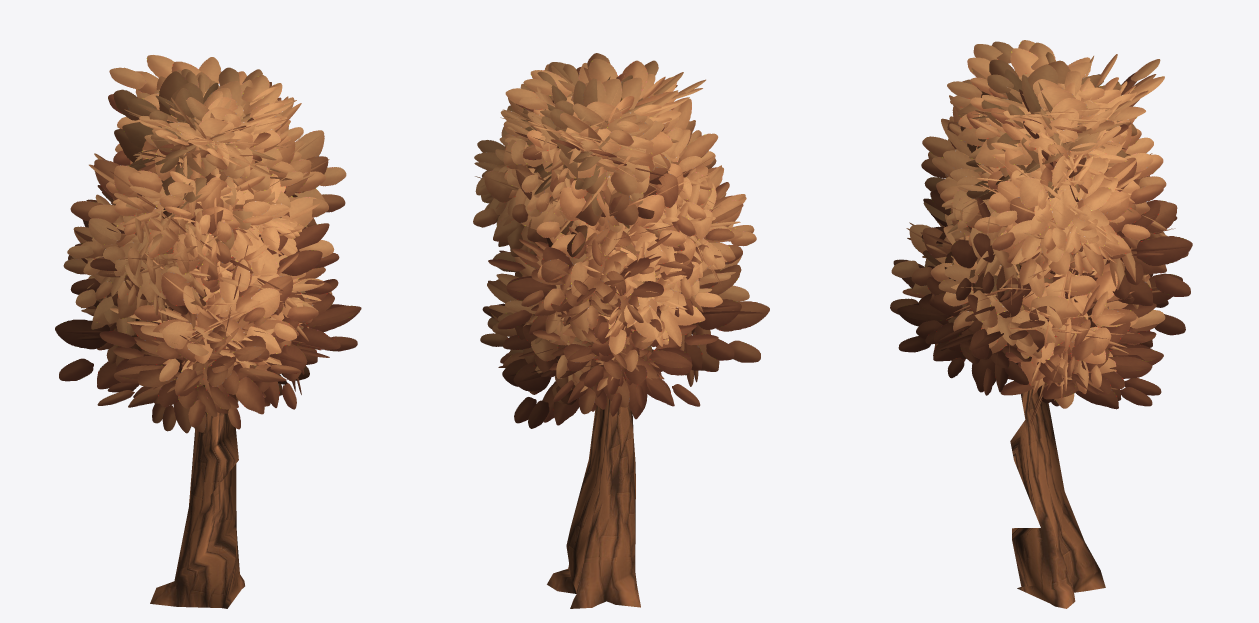
The model's file is tree_oak_autumn_far.glb.
3 views of the same model, side by side, from view 1: azimuth 30°, elevation 25°; view 2: azimuth 150°, elevation 25°; view 3: azimuth 270°, elevation 25° (orthographic).
Parts seen in each view (by area): view 1: Canopy, tree_oak_autumn_far; view 2: Canopy, tree_oak_autumn_far; view 3: Canopy, tree_oak_autumn_far.
Part boxes in pixels (x1,y1,x2,y2): Canopy: (55,55,361,433); tree_oak_autumn_far: (150,385,244,608); Canopy: (473,53,769,428); tree_oak_autumn_far: (547,395,640,608); Canopy: (890,40,1192,423); tree_oak_autumn_far: (1010,389,1105,608).
Bounding box in the file's own units: 1.5 × 2.3 × 1.58.
Materials: 2 (2 with a texture image).
